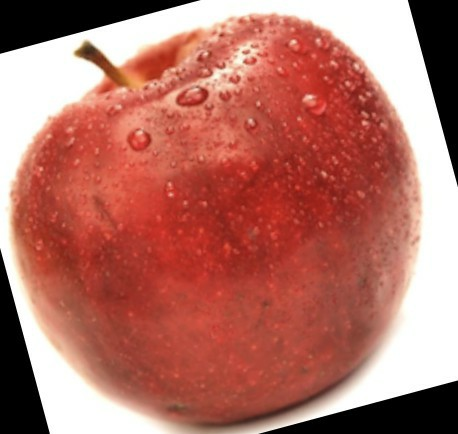fresh_apple: (15, 13, 425, 422)
